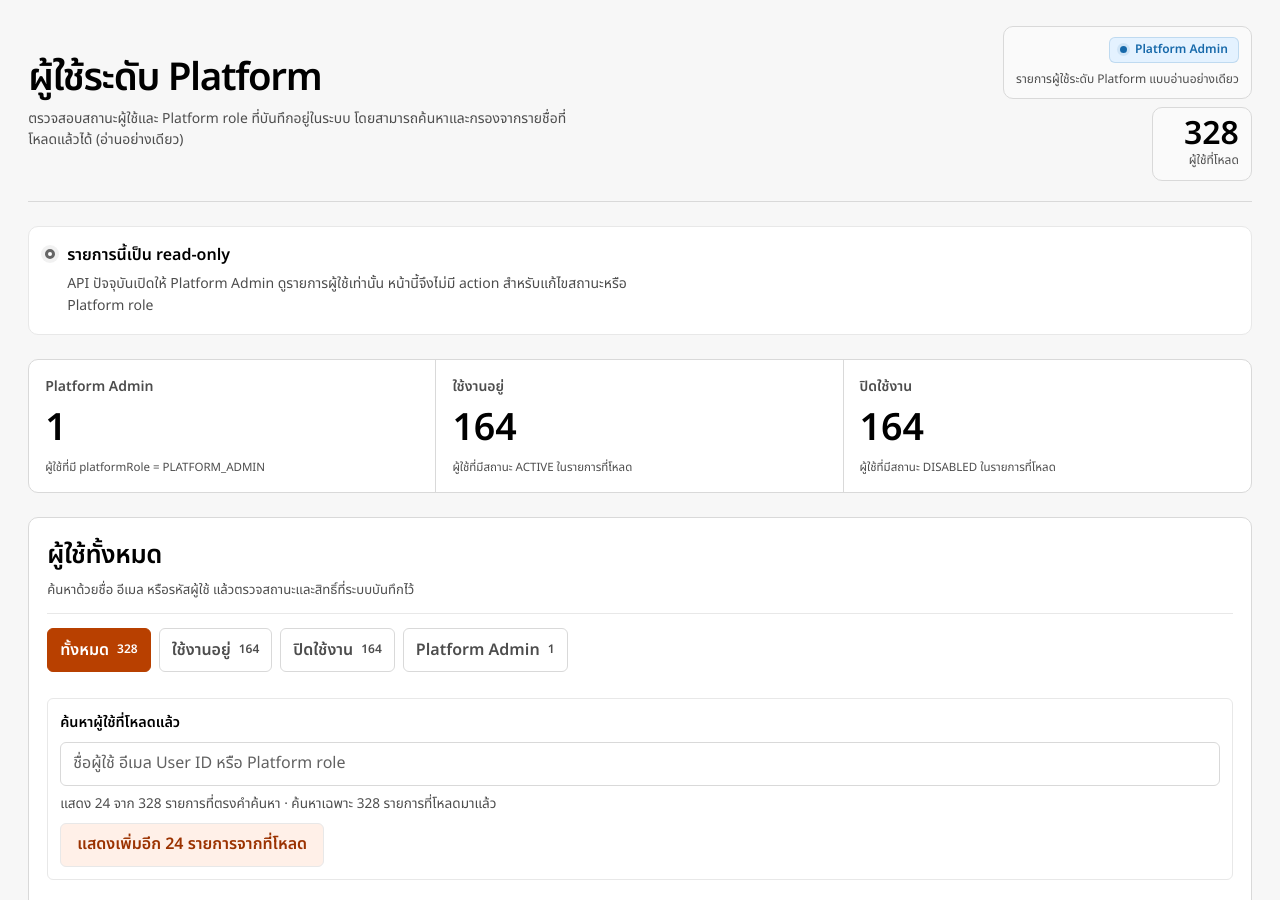
Scenario: PlatformUsersView › searches 300+ loaded users, filters by actual Platform role, without exposing edit actions
Step 1. Type "target operator" into the search field labelled "ค้นหาผู้ใช้ที่โหลดแล้ว" → (640, 764), box left=60, top=742, right=1220, bottom=786
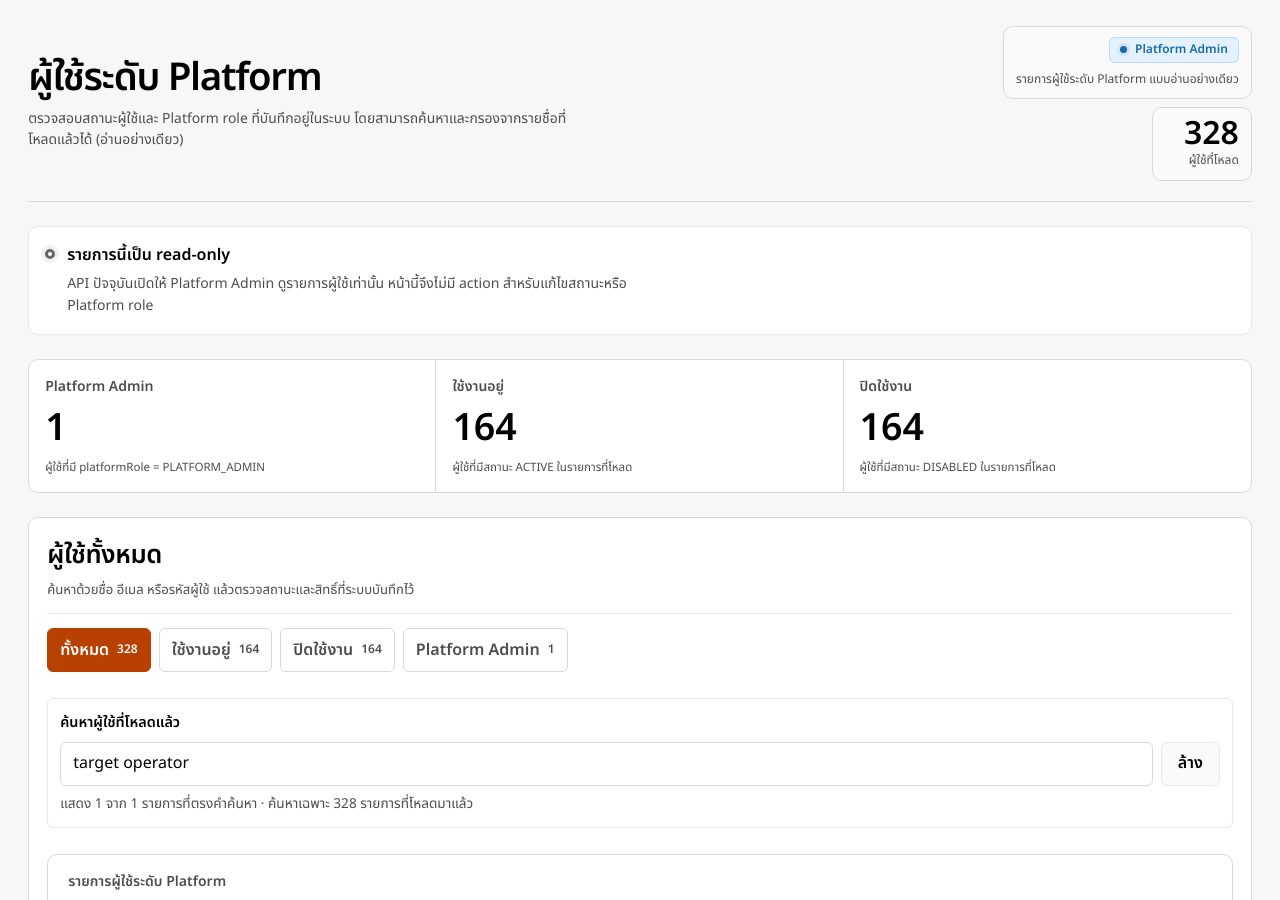
Step 2. Clear the search field labelled "ค้นหาผู้ใช้ที่โหลดแล้ว" → (606, 764), box left=60, top=742, right=1153, bottom=786
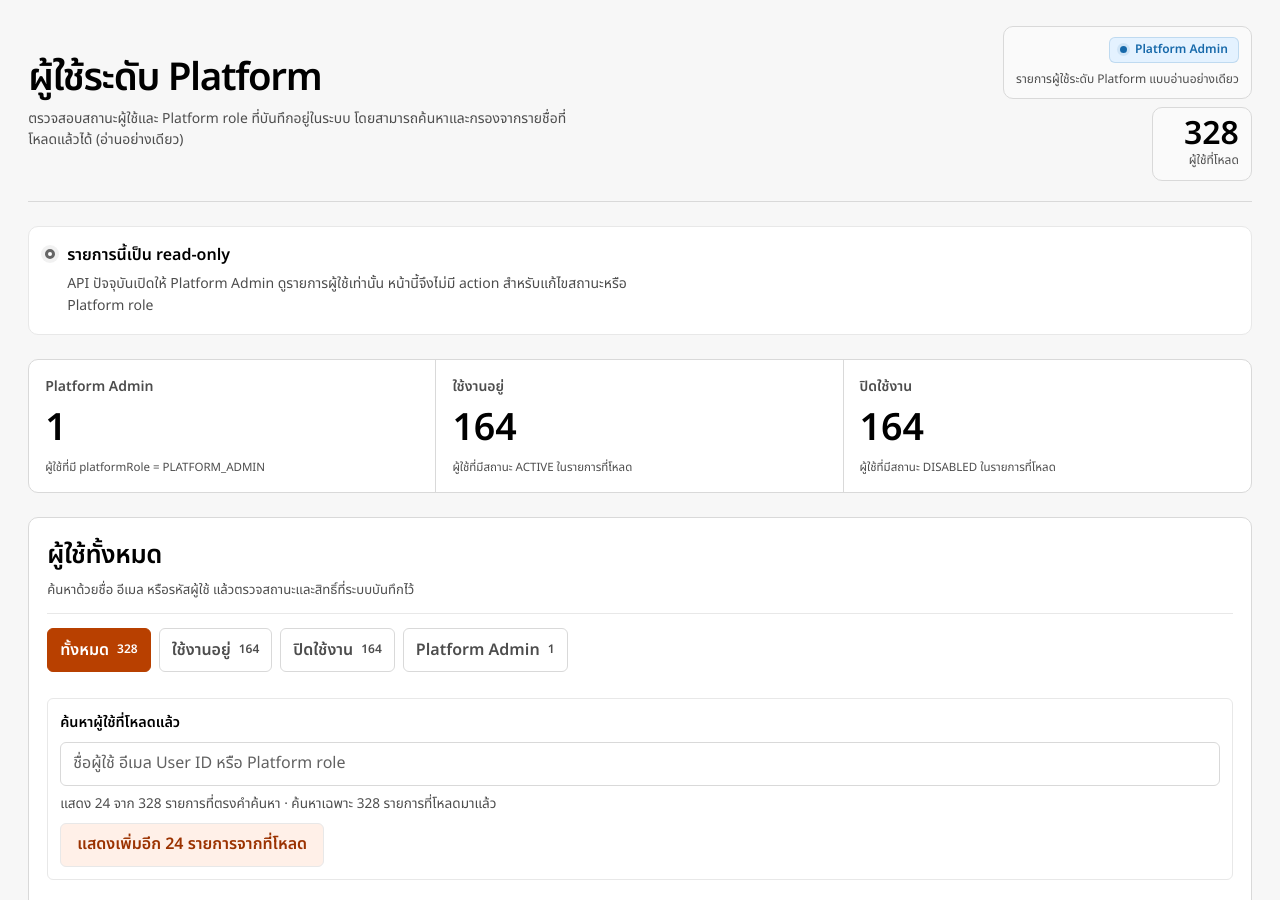
Step 3. Click the button "Platform Admin 1" → (485, 650), box left=403, top=628, right=568, bottom=672
(page scrolled)
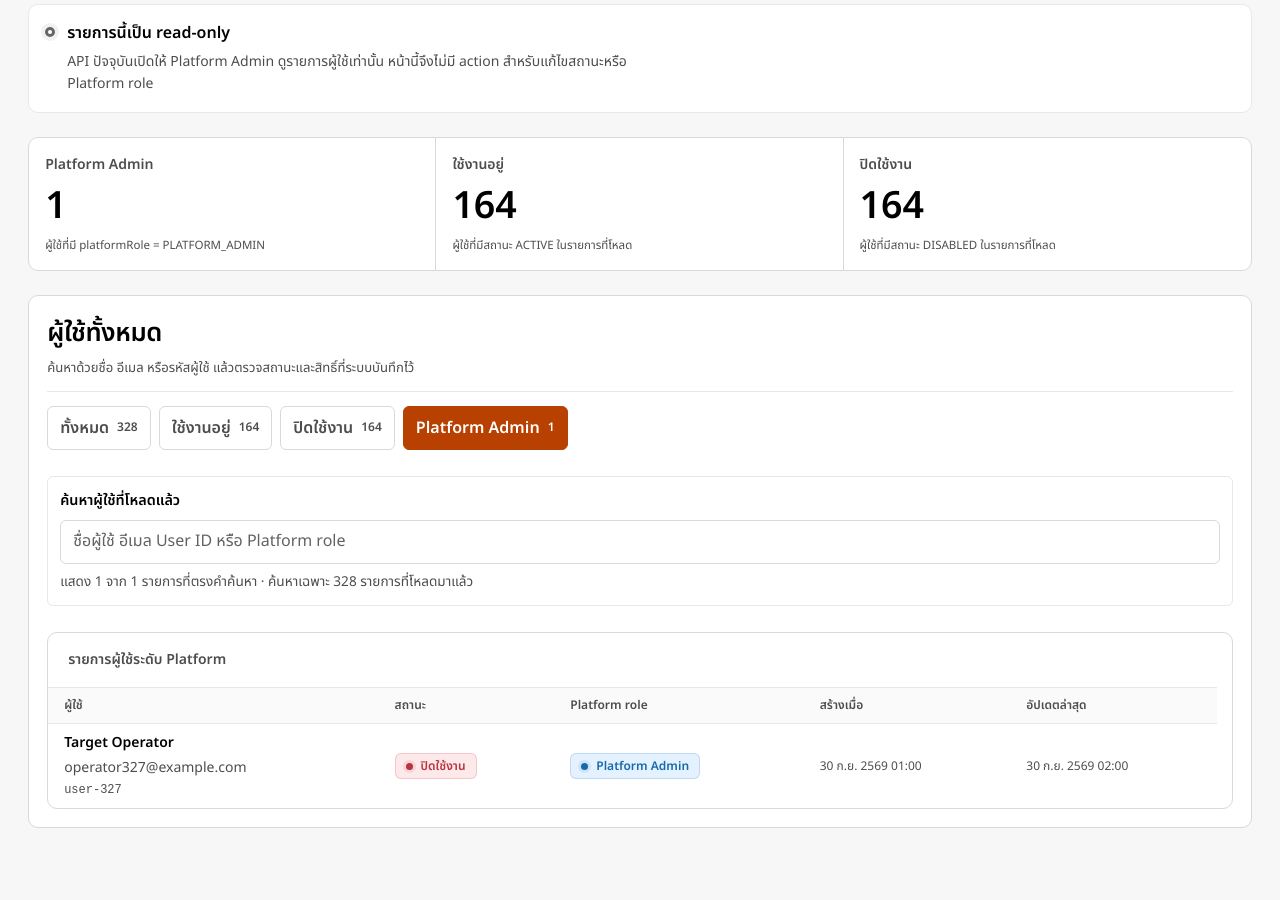
Expected: the text "Target Operator" is shown, left=64, top=732, right=174, bottom=753
